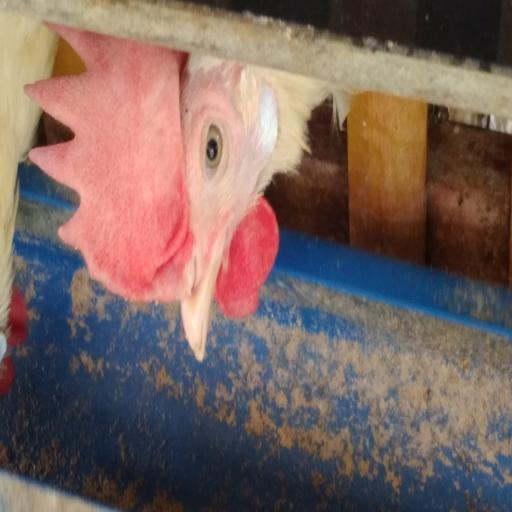healthy: (54, 27, 289, 342)
